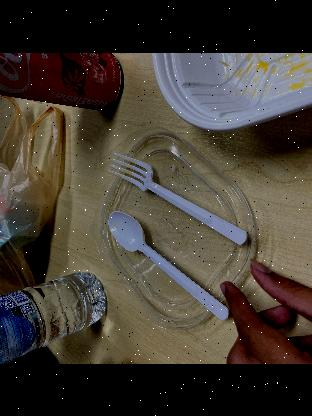Others: (100, 206, 230, 322), (107, 153, 247, 253)
